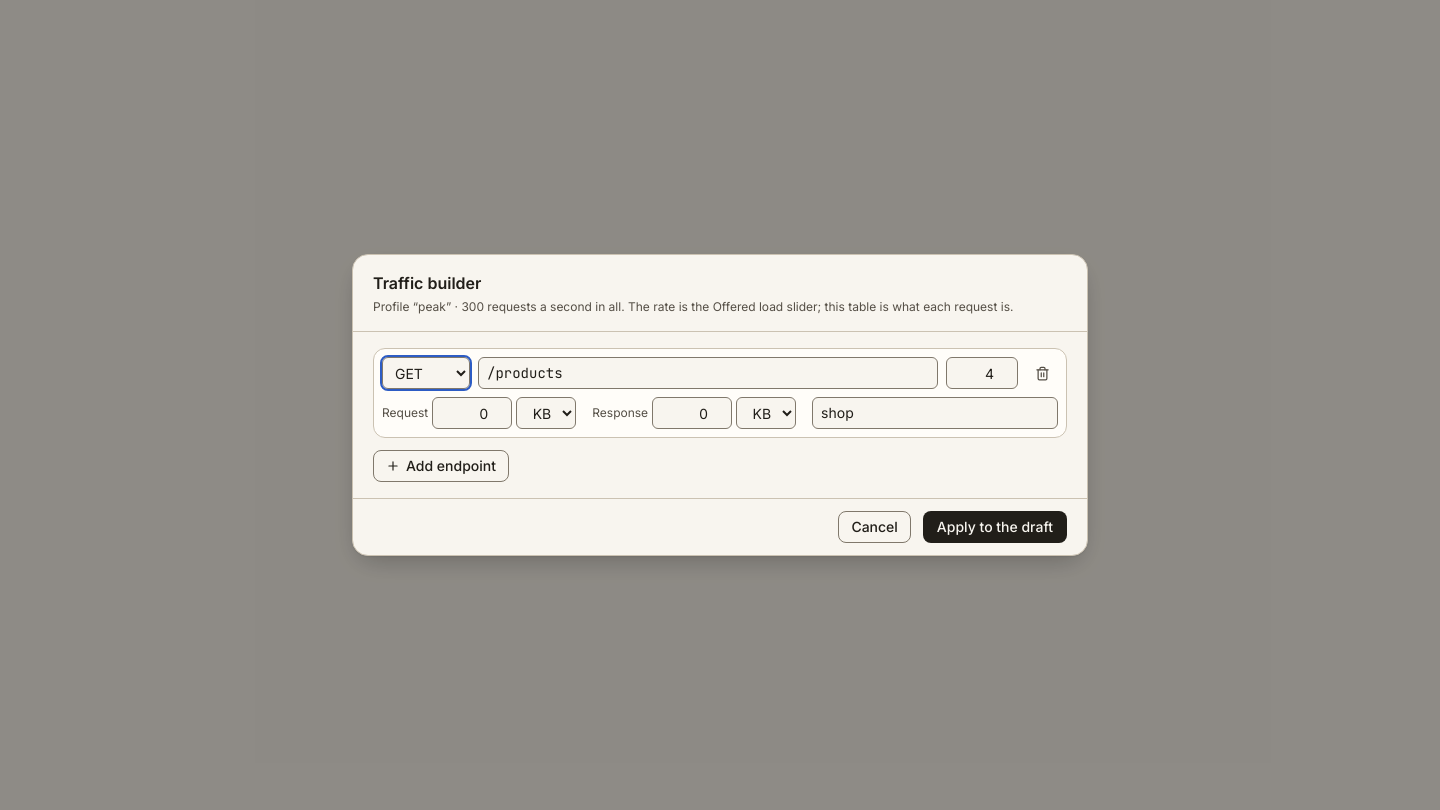
it: rows_are_added_and_removed
The width and height of the screenshot is (1440, 810).
Click the button "Add endpoint". click: (441,466)
box: [373,450,509,482]
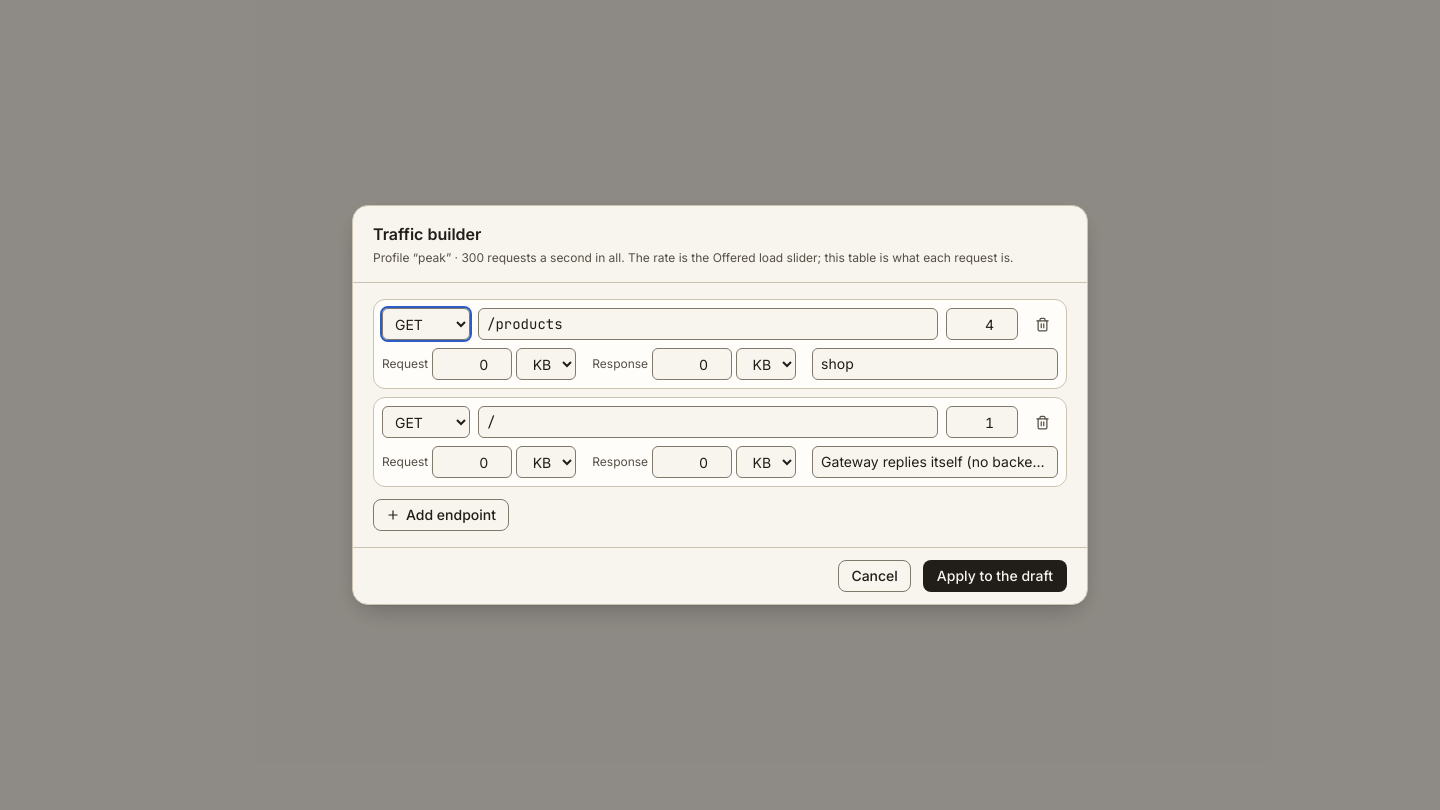
Now the field named "Path of endpoint 2" is shown, box [478,406,938,438]
Click the button named "Remove endpoint 1". click: (1042,324)
box: [1026,308,1058,340]
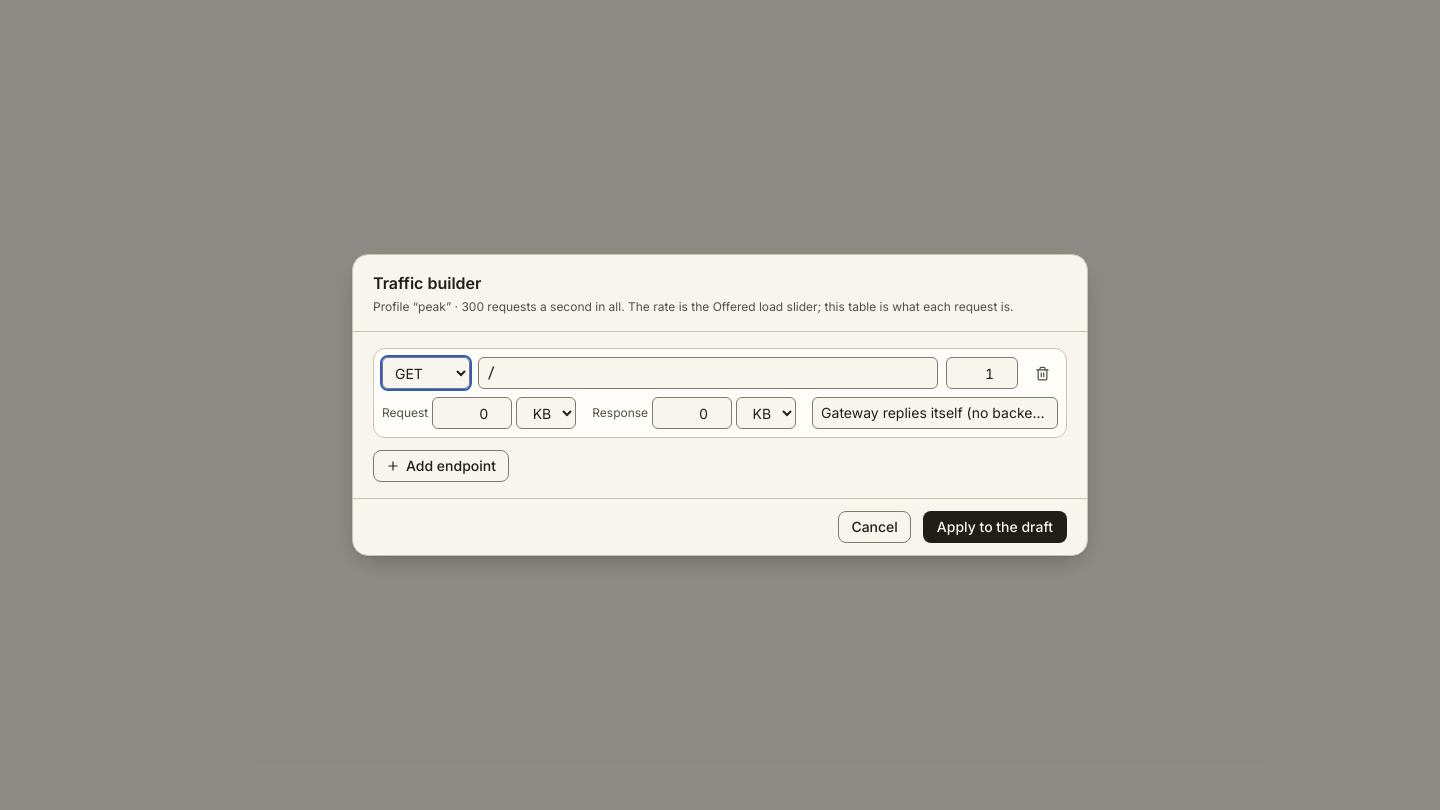
Now the field named "Path of endpoint 1" holds "/", box [478,357,938,389]
